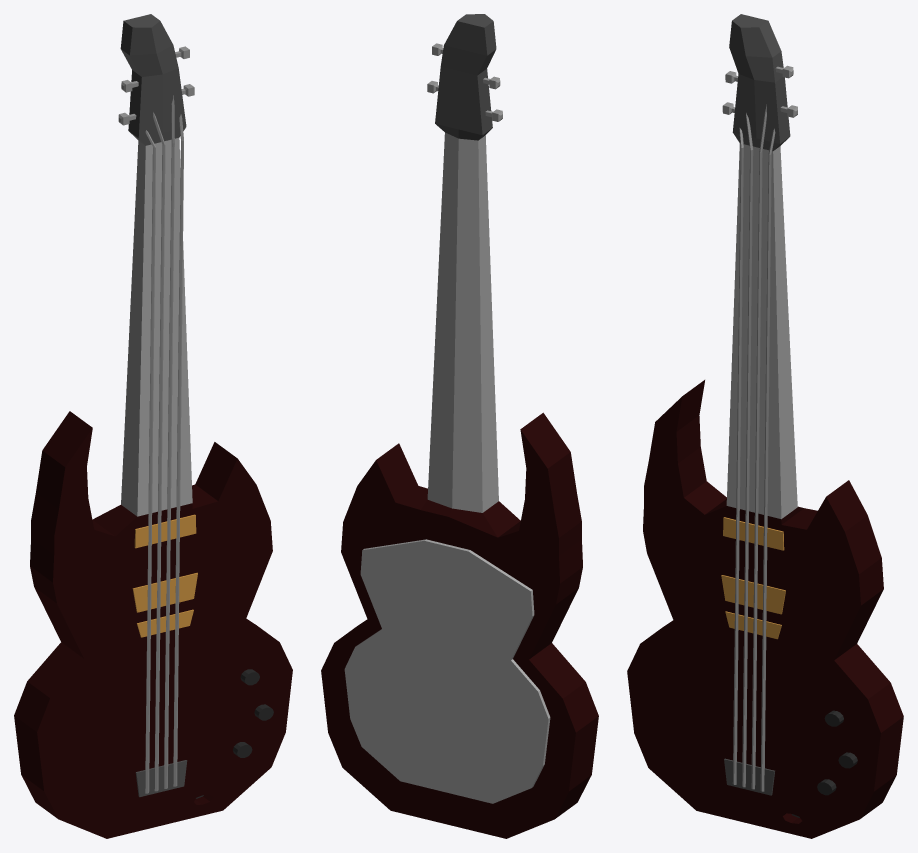
The model's file is Bass Guitar.fbx.
3 renders of one model, left to right at view 1: azimuth 30°, elevation 25°; view 2: azimuth 150°, elevation 25°; view 3: azimuth 330°, elevation 25°, orthographic.
Visible parts, largest first — view 1: Bass Guitar; view 2: Bass Guitar; view 3: Bass Guitar.
Part boxes in pixels (x1,y1,x2,y2): Bass Guitar: (14,14,292,838); Bass Guitar: (321,14,598,838); Bass Guitar: (627,14,903,838).
Bounding box in the file's own units: 416 × 1243 × 82.49.
